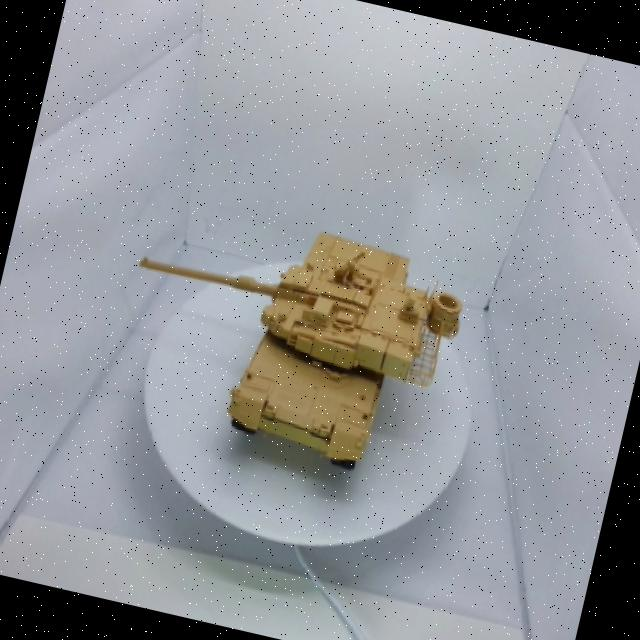korea tank: (79, 149, 514, 522)
